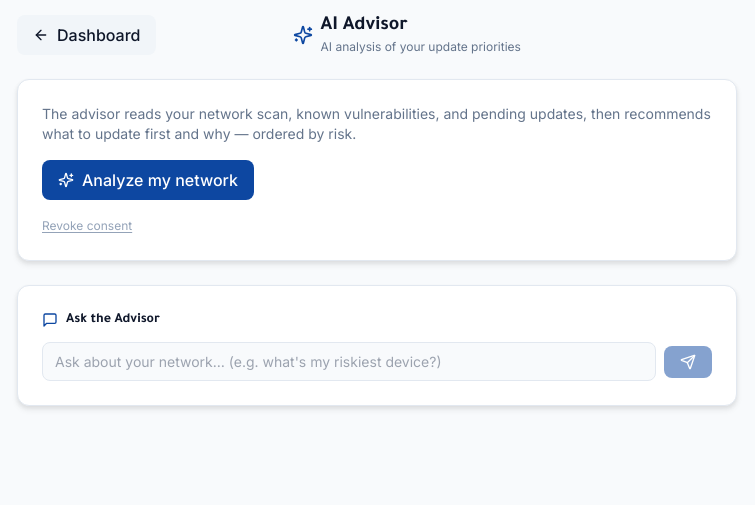
AdvisorPage › C10: analyze 500 shows 'Analysis failed: <msg>' and does NOT open the consent modal
The image size is (755, 505).
Click the button "Analyze my network".
click(148, 180)  # box [42,160,254,200]
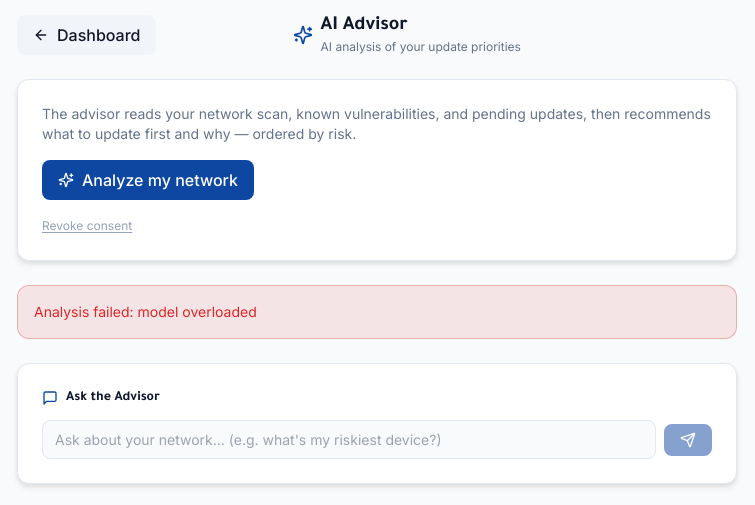
Expected: the text "Analysis failed: model overloaded" is shown, [17,285,737,339]
